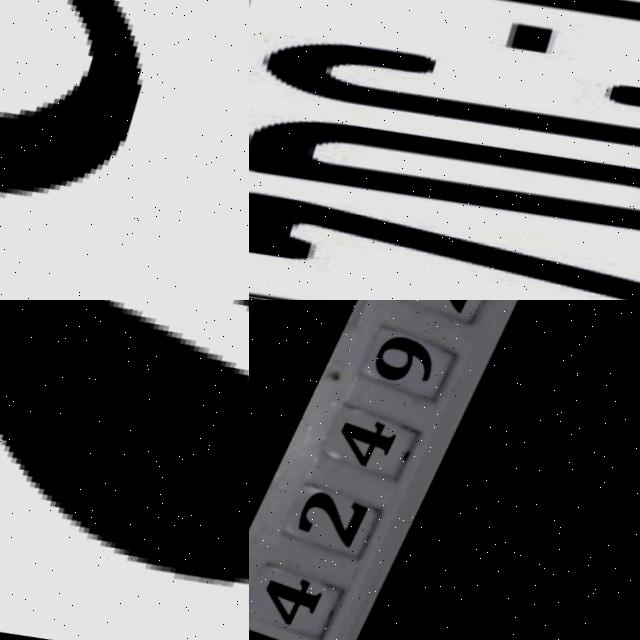0: (0, 300, 249, 640)
2: (280, 479, 388, 570), (386, 300, 496, 337)
4: (310, 402, 422, 495), (249, 559, 347, 640)
7: (249, 154, 640, 300)
9: (353, 323, 460, 414)
C: (251, 0, 640, 214)
D: (249, 65, 640, 280)
P: (290, 0, 640, 98)
Q: (0, 0, 249, 280)
